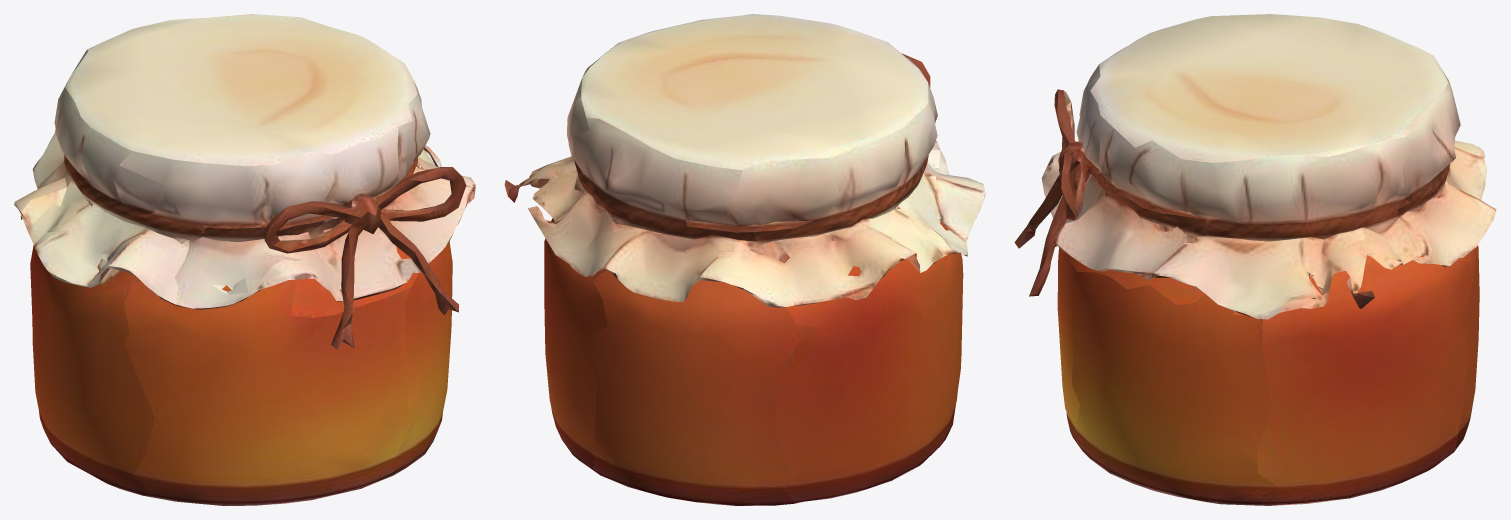
Rendered from persimmon_jam.glb.
The picture shows the model from 3 angles, left to right: view 1: azimuth 30°, elevation 25°; view 2: azimuth 150°, elevation 25°; view 3: azimuth 270°, elevation 25°; orthographic projection.
Visible parts, largest first — view 1: item_persimmon_jam; view 2: item_persimmon_jam; view 3: item_persimmon_jam.
Part boxes in pixels (x1,y1,x2,y2): item_persimmon_jam: (14, 14, 475, 505); item_persimmon_jam: (504, 14, 985, 505); item_persimmon_jam: (1014, 14, 1496, 505).
Bounding box in the file's own units: 0.9851 × 0.7765 × 1.
Materials: 1 (1 with a texture image).
